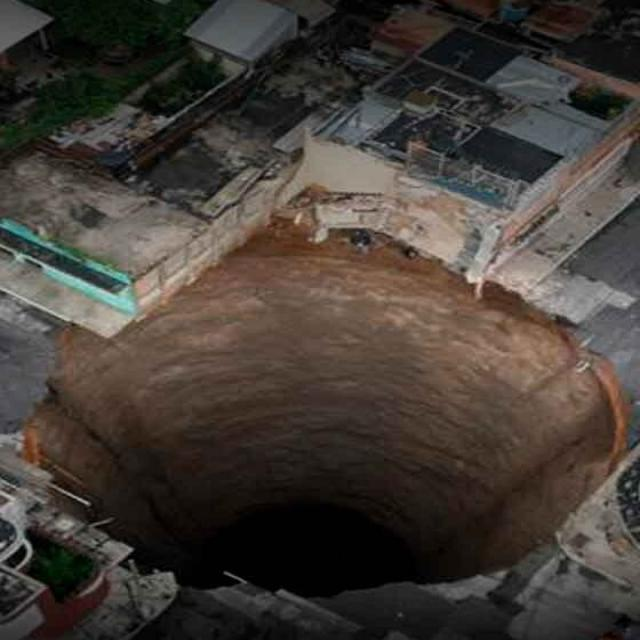Pothole: (32, 209, 640, 619)
